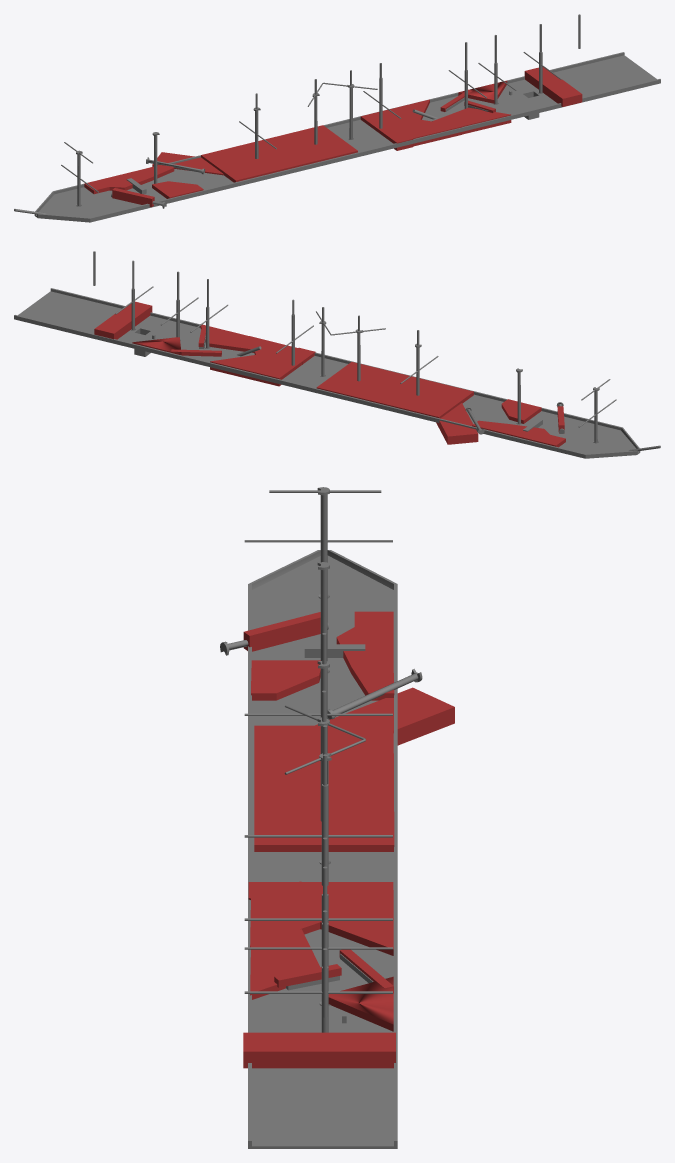
Rendered from paluba_up.fbx.
3 views of the same model, one above another, from view 1: azimuth 30°, elevation 25°; view 2: azimuth 150°, elevation 25°; view 3: azimuth 270°, elevation 25° (orthographic). The views are drawn at different scales.
Visible parts, largest first — view 1: paluba_up, Cube__8_, Cube__5_, Cube__2_, Cube__9_, Cube__4_, Cube__7_, Cube__16_, Cube__10_, Cube__3_, Cube__12_; view 2: paluba_up, Cube__8_, Cube__5_, Cube__2_, Cube__16_, Cube__9_, Cube__4_, Cube__7_, Cube__10_, Cube__3_; view 3: paluba_up, Cube__8_, Cube__2_, Cube__5_, Cube__9_, Cube__16_, Cube__7_, Cube__4_, Cube__10_, Cube__3_, Cube__12_.
Part boxes in pixels (x1,y1,x2,y2): paluba_up: (34, 52, 660, 222); Cube__8_: (201, 125, 357, 182); Cube__5_: (360, 99, 429, 150); Cube__2_: (524, 67, 582, 106); Cube__9_: (84, 165, 174, 194); Cube__4_: (432, 107, 511, 134); Cube__7_: (383, 119, 462, 146); Cube__16_: (152, 152, 223, 175); Cube__10_: (152, 181, 203, 198); Cube__3_: (458, 80, 507, 103); Cube__12_: (112, 188, 154, 207); paluba_up: (14, 288, 640, 458); Cube__8_: (316, 362, 473, 418); Cube__5_: (210, 347, 315, 386); Cube__2_: (94, 301, 152, 339); Cube__16_: (436, 403, 478, 444); Cube__9_: (472, 420, 565, 447); Cube__4_: (200, 324, 259, 352); Cube__7_: (249, 336, 308, 364); Cube__10_: (501, 399, 541, 423); Cube__3_: (132, 337, 181, 355); paluba_up: (248, 550, 397, 1148); Cube__8_: (254, 725, 394, 851); Cube__2_: (243, 1032, 395, 1068); Cube__5_: (248, 882, 393, 955); Cube__9_: (336, 611, 394, 700); Cube__16_: (315, 687, 454, 745); Cube__7_: (250, 881, 321, 947); Cube__4_: (250, 929, 319, 999); Cube__10_: (251, 660, 320, 700); Cube__3_: (328, 976, 393, 1031); Cube__12_: (243, 612, 320, 651).
Size of the model in its own units: 31887 by 4374 by 5172.
